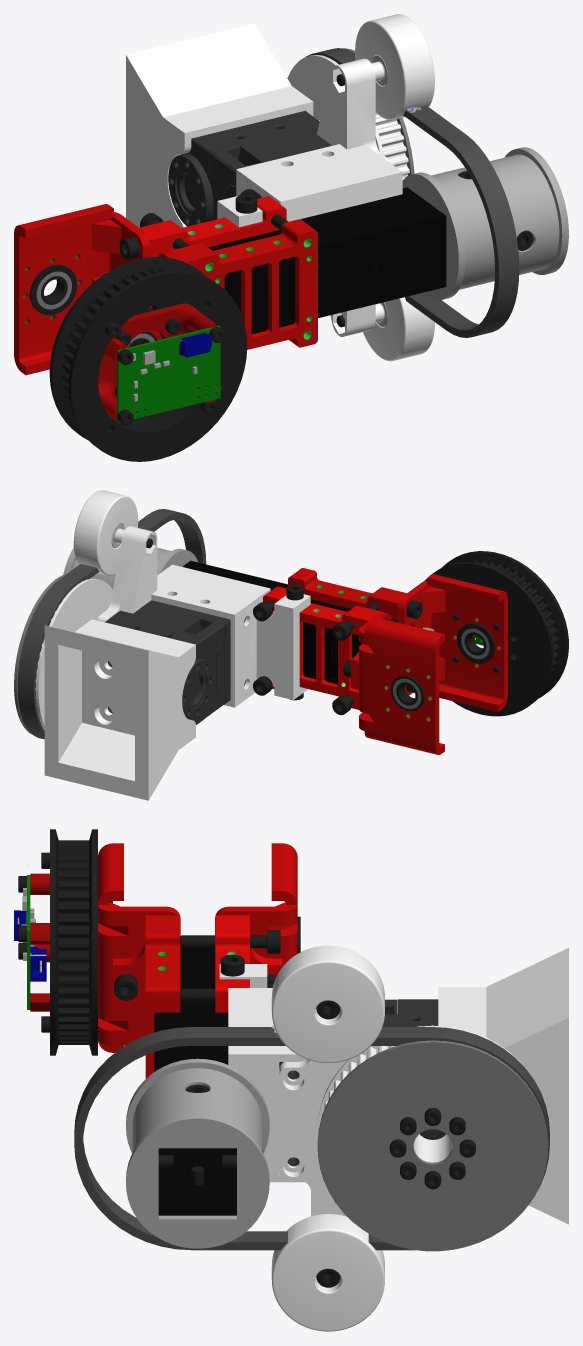
The model's file is female.dae.
3 renders of one model, top to bottom at view 1: azimuth 30°, elevation 25°; view 2: azimuth 150°, elevation 25°; view 3: azimuth 270°, elevation 25°, orthographic. The views are drawn at different scales.
Visible parts, largest first — view 1: node57, node56, node49, node47, node60, node43, node61, node69, node51, node58, node59, node48 (+8 smaller); view 2: node57, node60, node47, node45, node48, node43, node61, node71, node67, node65, node64, node56 (+7 smaller); view 3: node63, node57, node58, node61, node67, node66, node56, node48, node45, node65, node60, node59 (+9 smaller).
Part boxes in pixels (left/top/right/bottom): node57: left=126, top=23, right=313, bottom=227; node56: left=208, top=187, right=446, bottom=334; node49: left=68, top=271, right=247, bottom=461; node47: left=14, top=204, right=150, bottom=375; node60: left=217, top=144, right=402, bottom=227; node43: left=168, top=111, right=331, bottom=226; node61: left=305, top=48, right=519, bottom=337; node69: left=167, top=219, right=317, bottom=349; node51: left=117, top=325, right=220, bottom=422; node58: left=490, top=147, right=568, bottom=274; node59: left=402, top=167, right=494, bottom=300; node48: left=49, top=257, right=206, bottom=440; node57: left=44, top=619, right=195, bottom=800; node60: left=151, top=564, right=310, bottom=707; node47: left=359, top=612, right=444, bottom=754; node45: left=397, top=574, right=507, bottom=712; node48: left=424, top=560, right=558, bottom=716; node43: left=105, top=600, right=245, bottom=724; node61: left=17, top=509, right=206, bottom=739; node71: left=263, top=586, right=384, bottom=709; node67: left=73, top=490, right=138, bottom=575; node65: left=97, top=526, right=157, bottom=622; node64: left=35, top=578, right=112, bottom=730; node56: left=182, top=560, right=397, bottom=684; node63: left=317, top=1040, right=548, bottom=1251; node57: left=438, top=948, right=568, bottom=1224; node58: left=126, top=1095, right=269, bottom=1248; node61: left=74, top=1027, right=549, bottom=1250; node67: left=271, top=945, right=384, bottom=1063; node66: left=271, top=1214, right=384, bottom=1331; node56: left=154, top=947, right=236, bottom=1215; node48: left=58, top=829, right=97, bottom=1055; node45: left=98, top=843, right=180, bottom=1052; node65: left=279, top=1059, right=346, bottom=1216; node60: left=219, top=964, right=305, bottom=1182; node59: left=126, top=1058, right=269, bottom=1153.
Bounding box in the file's own units: 0.157 × 0.094 × 0.1275.
